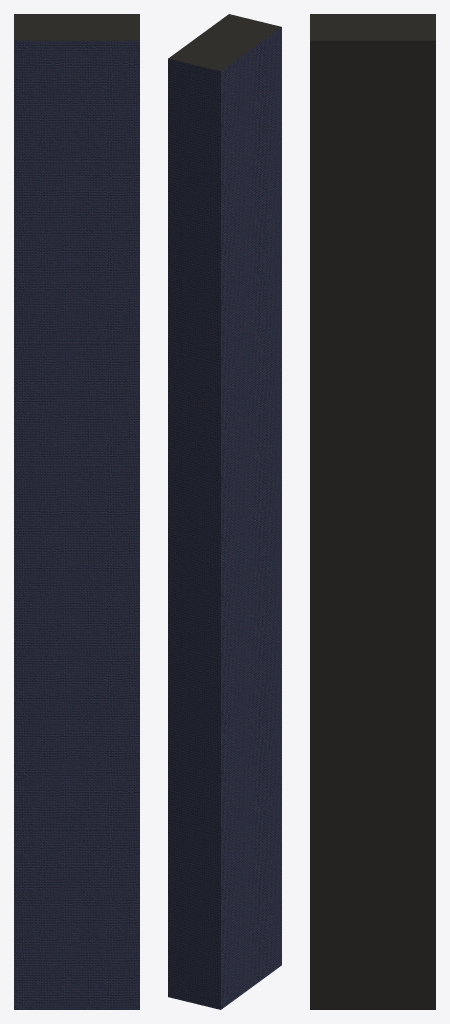
File: GYM_BLUE_Wall_3.fbx
3 views of the same model, side by side, from view 1: azimuth 90°, elevation 25°; view 2: azimuth 150°, elevation 25°; view 3: azimuth 270°, elevation 25° (orthographic). The views are drawn at different scales.
Parts seen in each view (by area): view 1: GYM_Wall_Blue_SM; view 2: GYM_Wall_Blue_SM; view 3: GYM_Wall_Blue_SM.
Part boxes in pixels (x1,y1,x2,y2): GYM_Wall_Blue_SM: [14, 14, 139, 1009]; GYM_Wall_Blue_SM: [168, 14, 281, 1009]; GYM_Wall_Blue_SM: [310, 14, 435, 1009].
Bounding box in the file's own units: 0.5 × 8.5 × 1.
Materials: 2 (1 with a texture image).
